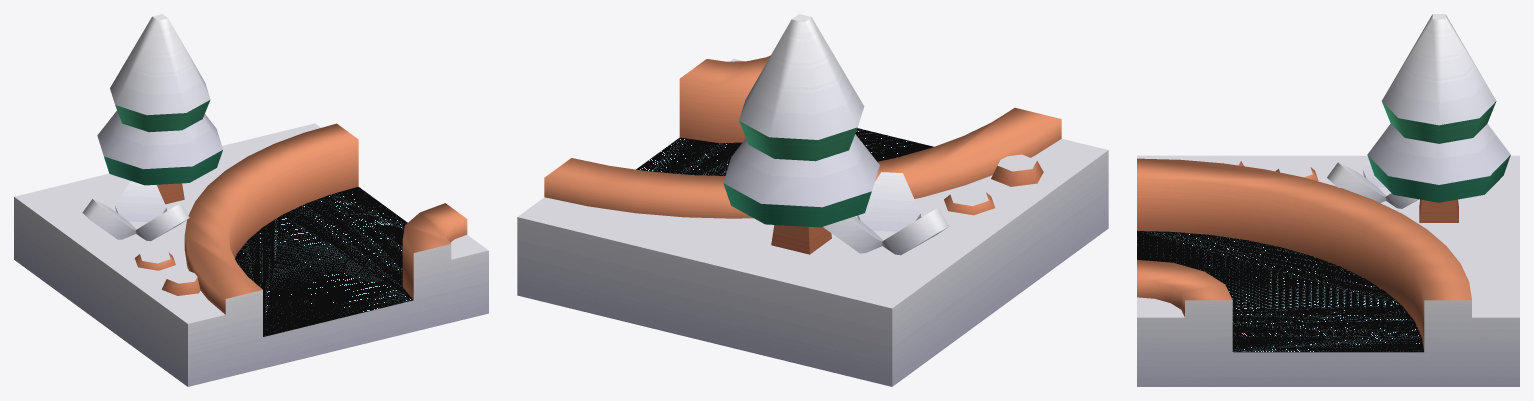
Rendered from tower-defense-kit--snow-tile-river-corner.glb.
3 views of the same model, side by side, from view 1: azimuth 30°, elevation 25°; view 2: azimuth 150°, elevation 25°; view 3: azimuth 270°, elevation 25° (orthographic). The views are drawn at different scales.
Visible parts, largest first — view 1: snow-tile-river-corner; view 2: snow-tile-river-corner; view 3: snow-tile-river-corner.
Boxes of the visible parts, x1,y1,x2,y2 form: snow-tile-river-corner: (14,14,488,386); snow-tile-river-corner: (517,14,1108,386); snow-tile-river-corner: (1137,14,1519,386).
Size of the model in its own units: 1 by 0.77 by 1.
1 material, 1 textured.
